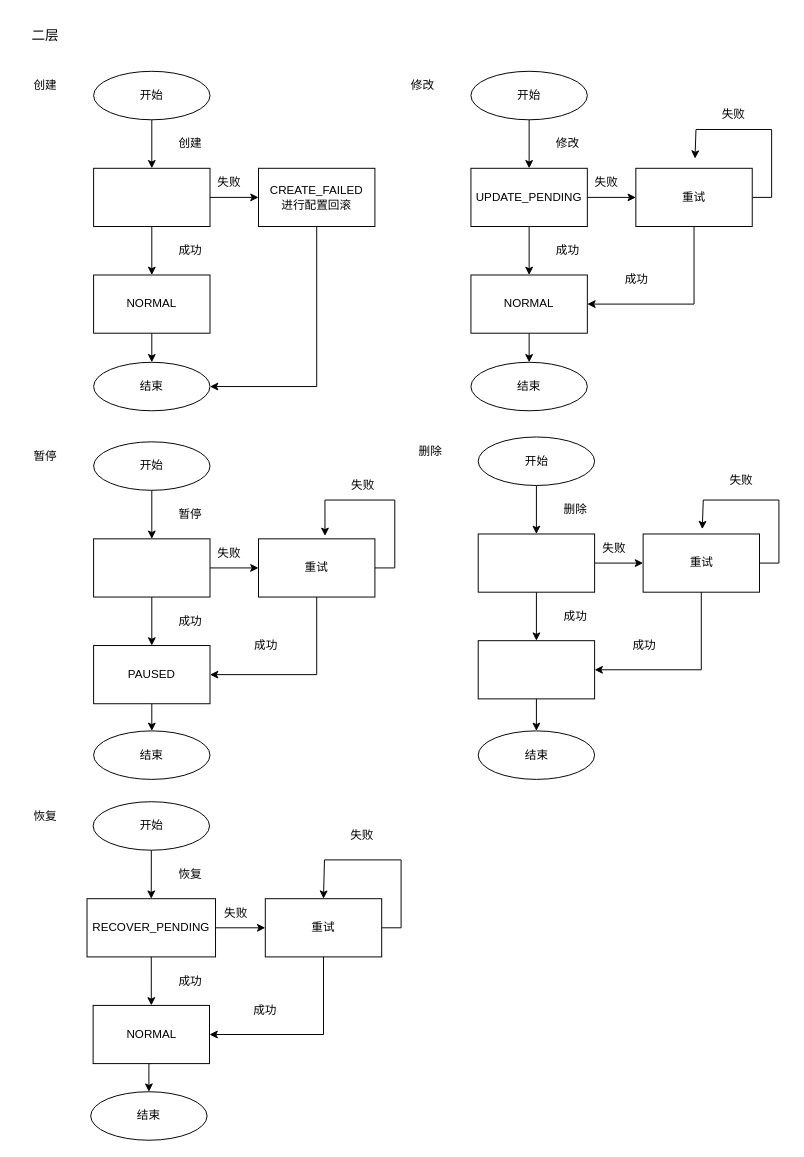
This 804x1157 diagram has some shape labels left out. Each missing label, with the centre of its shape:
CREATE_PENDING: pixel 151 196
DELETE_PENDING: pixel 536 562
DELETED: pixel 536 669
PAUSE_PENDING: pixel 151 567
